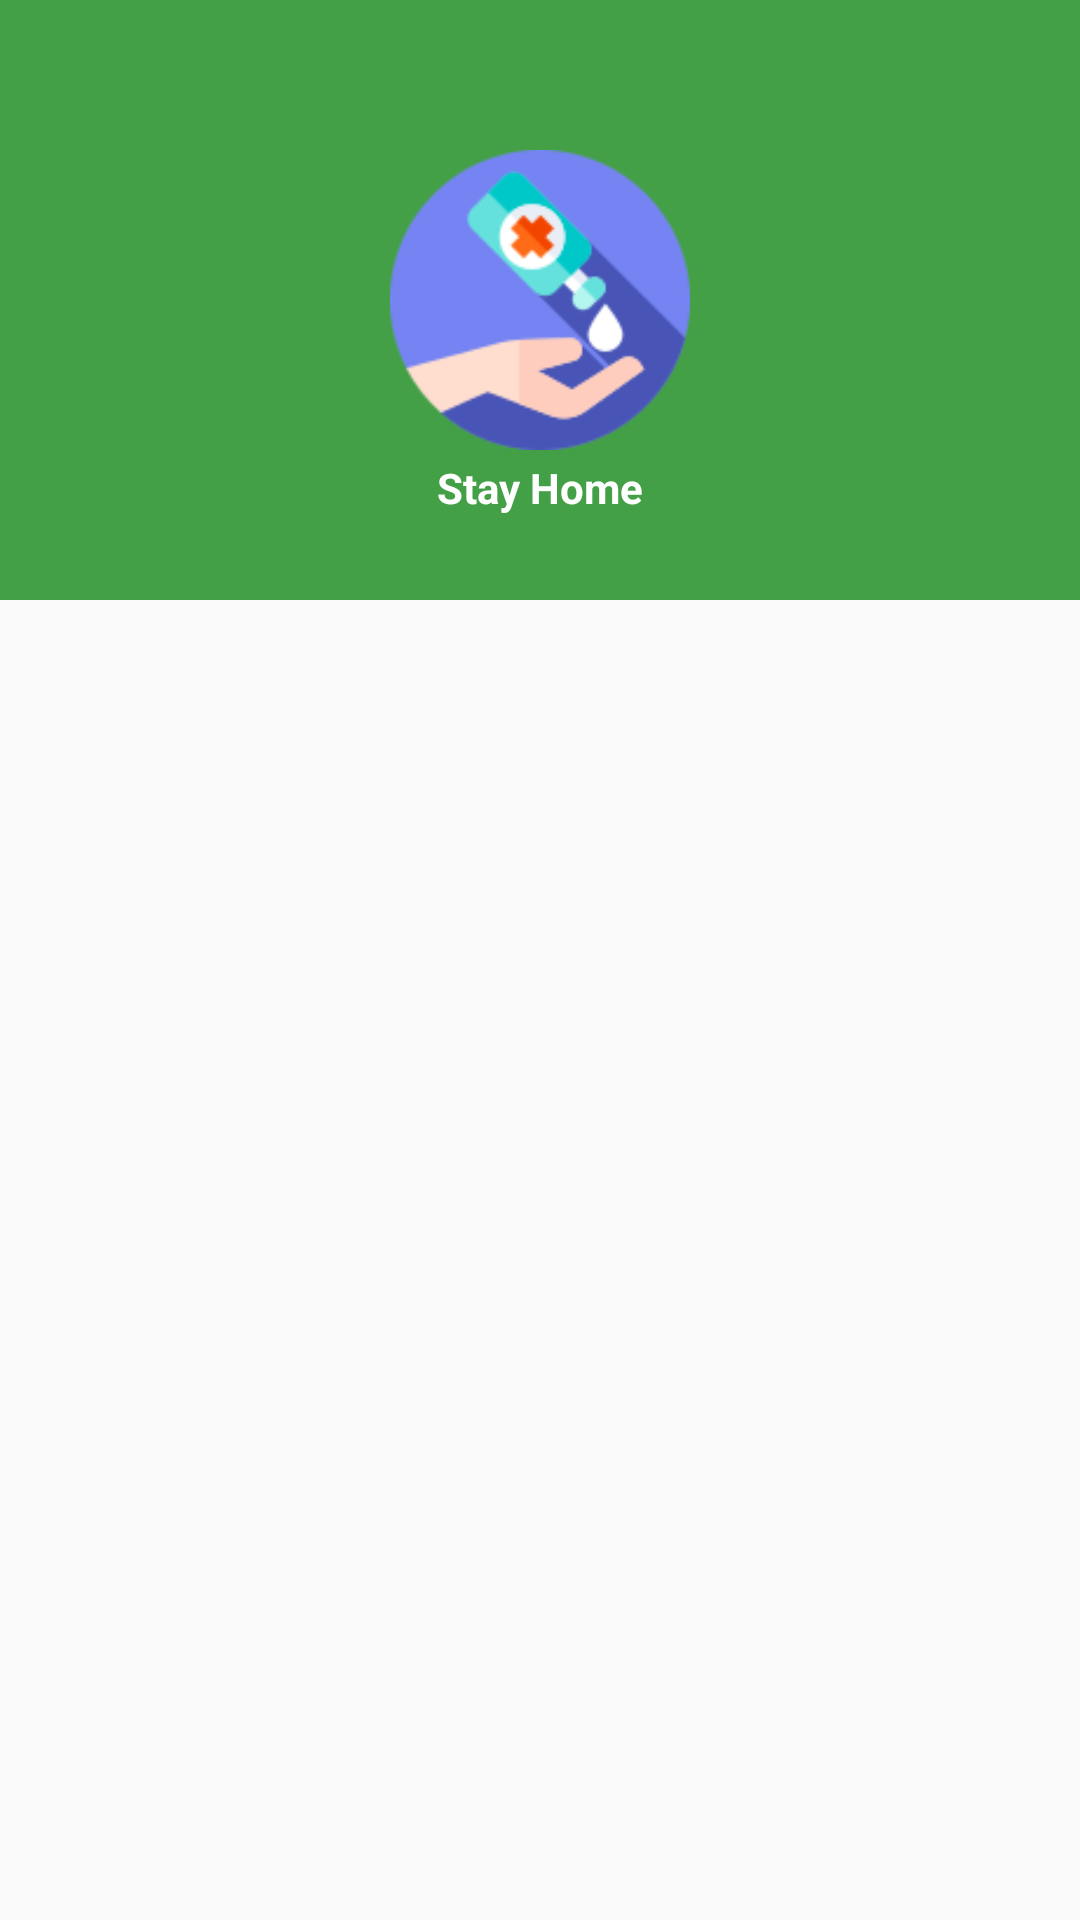

Icon bounding boxes for this 1080x1920 phone screenshot, format (x1=x1, y1=y1, x2=x2, y2=y2):
app: (x1=390, y1=150, x2=690, y2=450)
